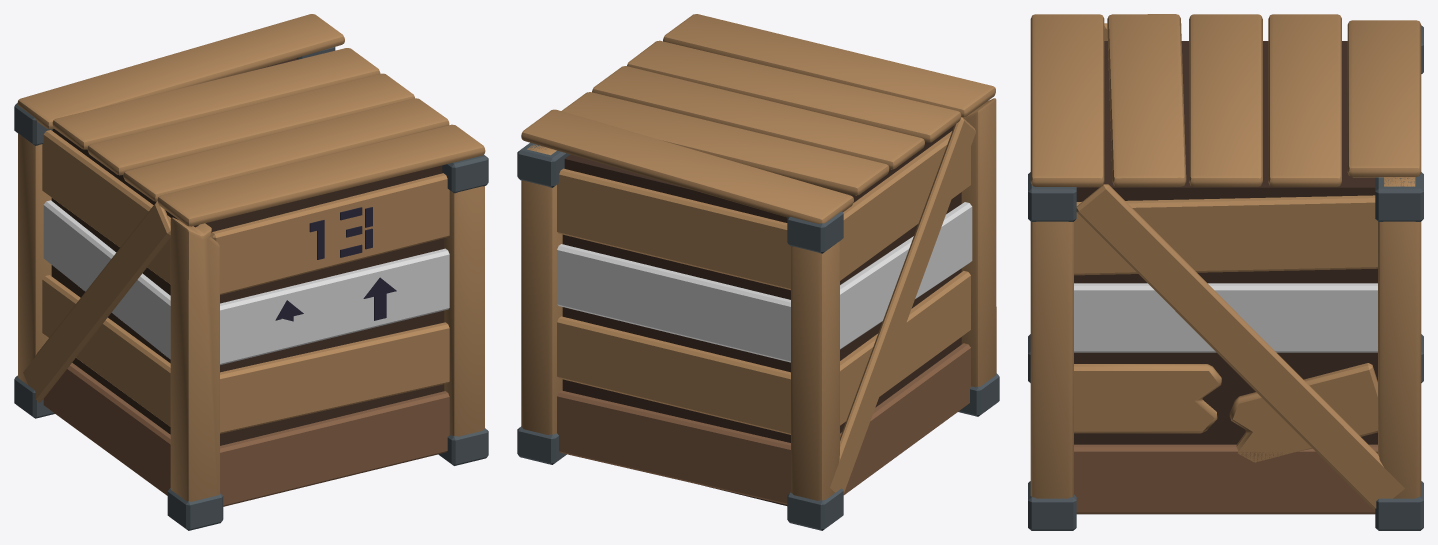
Rendered from crate.glb.
The picture shows the model from 3 angles, left to right: view 1: azimuth 30°, elevation 25°; view 2: azimuth 150°, elevation 25°; view 3: azimuth 270°, elevation 25°; orthographic projection. The views are drawn at different scales.
Parts seen in each view (by area): view 1: crate; view 2: crate; view 3: crate.
Part boxes in pixels (x1,y1,x2,y2): crate: [14, 14, 488, 530]; crate: [517, 14, 999, 530]; crate: [1028, 14, 1423, 530].
Bounding box in the file's own units: 0.912 × 0.9244 × 0.912.
